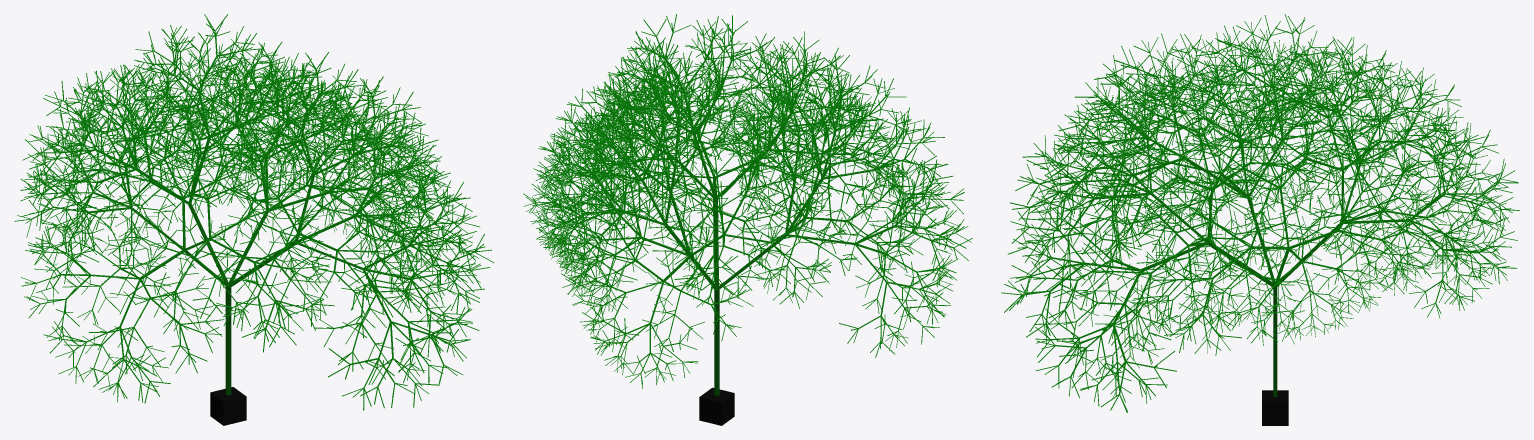
File: GreenTree.glb
The picture shows the model from 3 angles, left to right: view 1: azimuth 30°, elevation 25°; view 2: azimuth 150°, elevation 25°; view 3: azimuth 270°, elevation 25°; orthographic projection. The views are drawn at different scales.
Size of the model in its own units: 3.44 by 3.02 by 3.87.
